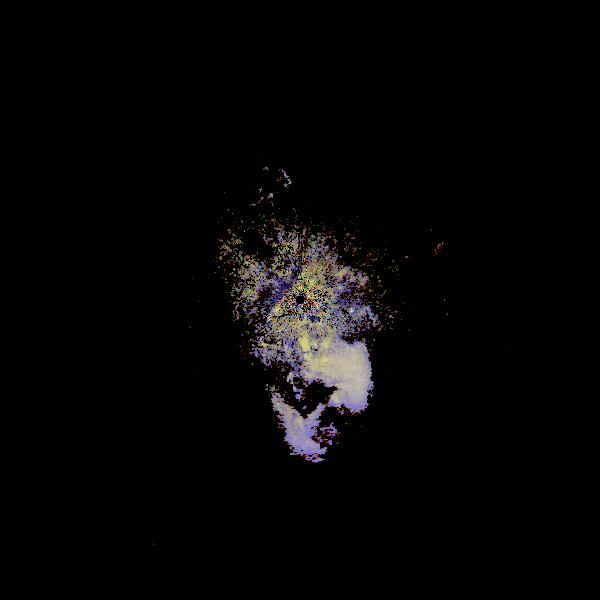roost: (206, 291, 407, 492)
